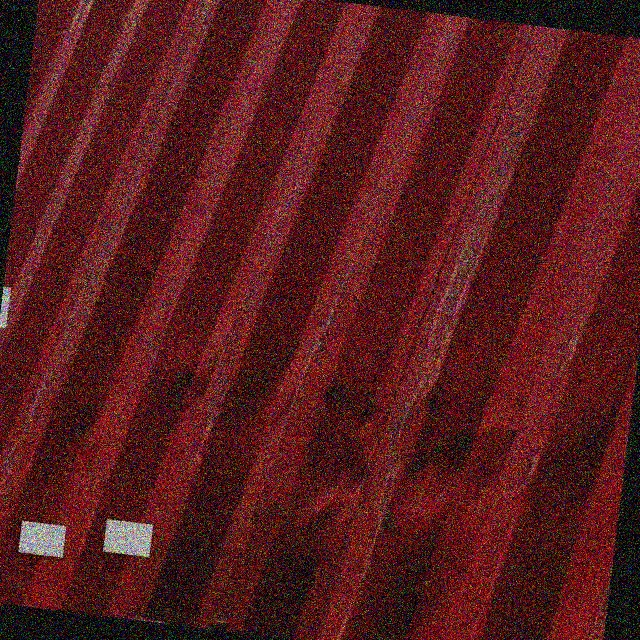Dent: (179, 351, 537, 586)
